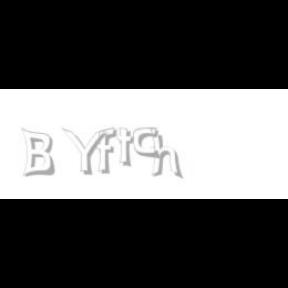B: (21, 128, 55, 178)
Y: (61, 128, 107, 176)
c: (132, 128, 162, 160)
f: (97, 128, 121, 174)
h: (150, 128, 184, 180)
t: (116, 128, 138, 168)
